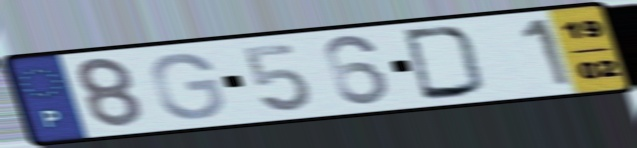1: (518, 16, 575, 89)
5: (239, 39, 314, 114)
6: (322, 32, 393, 108)
8: (75, 55, 146, 131)
D: (399, 25, 489, 102)
G: (147, 50, 228, 122)
